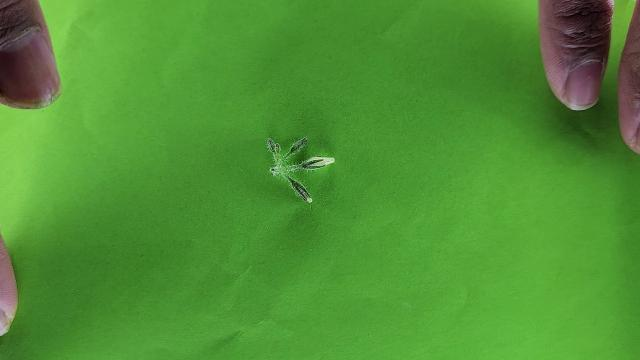Flower Bud: (286, 176, 312, 203), (299, 155, 334, 169), (285, 136, 308, 157)
